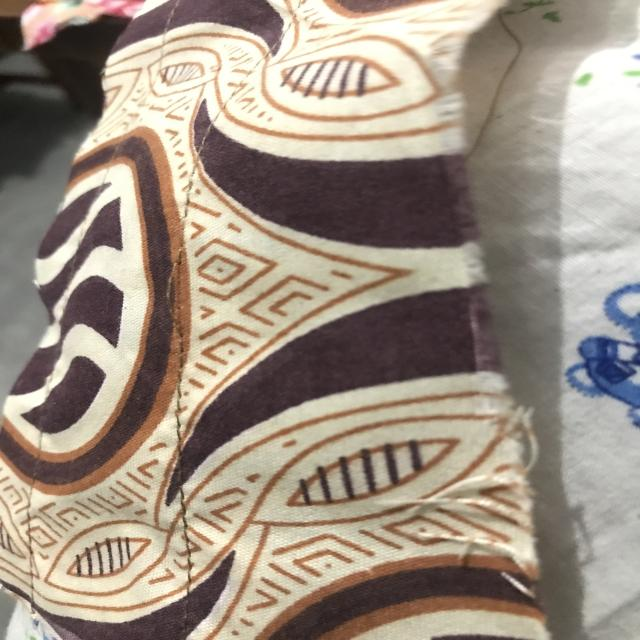good: (163, 370, 200, 499)
skip: (143, 237, 207, 338)
